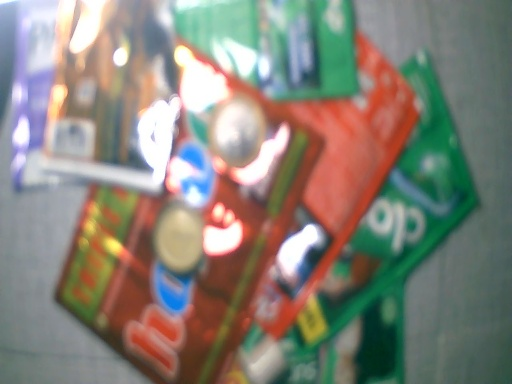metal: (209, 92, 267, 170), (152, 203, 206, 272)
plastic: (299, 50, 483, 342), (55, 200, 295, 384), (53, 1, 182, 201), (178, 1, 361, 99), (295, 271, 414, 384), (1, 1, 62, 191), (182, 170, 307, 198)
trash: (239, 335, 288, 384)
